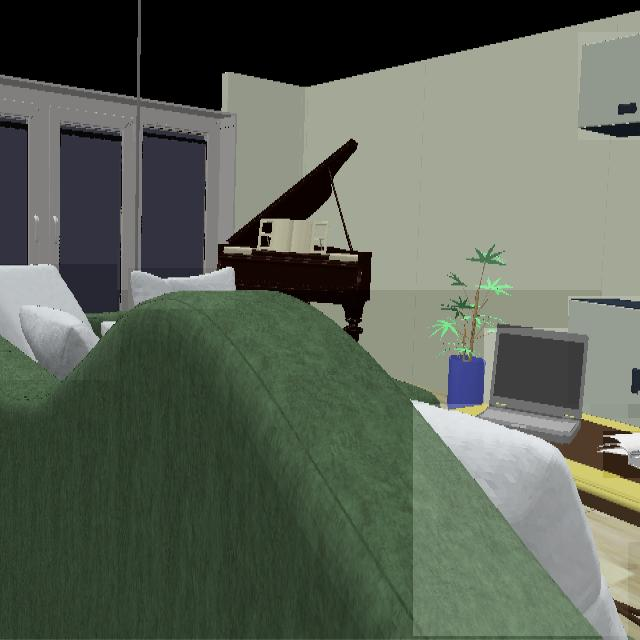book: (603, 432, 640, 477)
cabinet: (568, 296, 640, 404), (578, 32, 640, 140)
laptop: (484, 328, 590, 453)
pillow: (413, 404, 628, 636), (0, 264, 117, 380), (128, 268, 235, 309)
sofa: (0, 291, 601, 639)
table: (563, 419, 640, 542)
